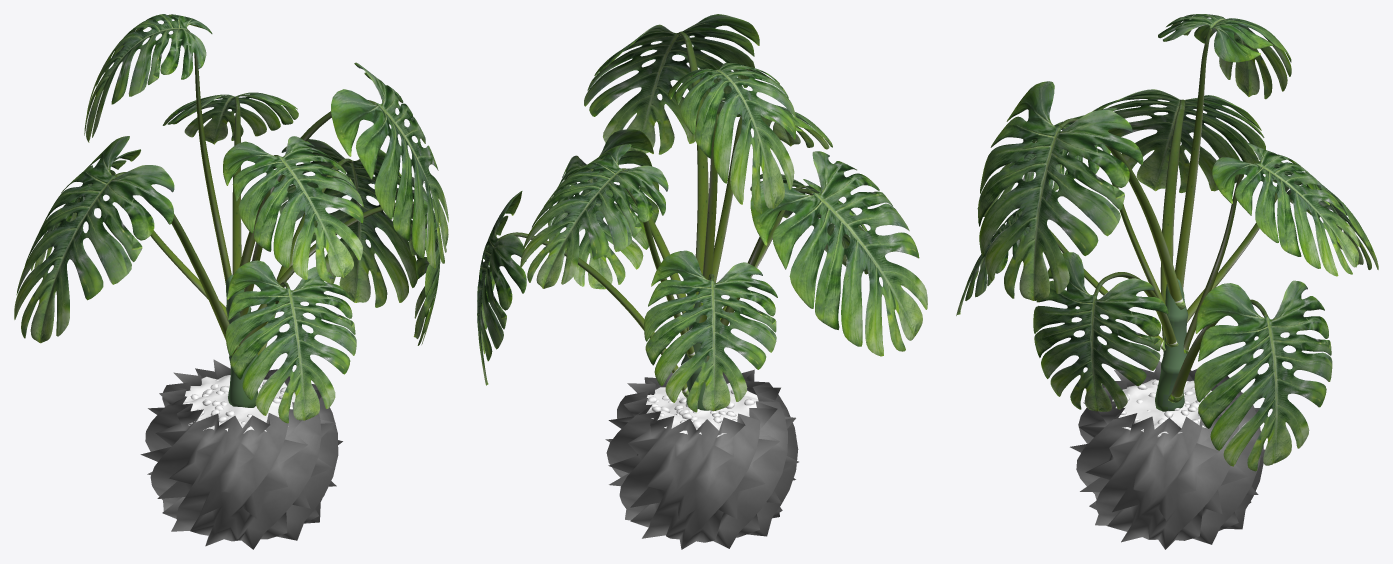
File: plant.glb
3 renders of one model, left to right at view 1: azimuth 30°, elevation 25°; view 2: azimuth 150°, elevation 25°; view 3: azimuth 270°, elevation 25°, orthographic.
Parts seen in each view (by area): view 1: PlantMonstera, Vase, Clay; view 2: PlantMonstera, Vase, Clay; view 3: PlantMonstera, Vase, Clay.
Part boxes in pixels (x1,y1,x2,y2): PlantMonstera: (14,14,448,423); Vase: (140,359,342,549); Clay: (183,375,295,433); PlantMonstera: (477,14,927,412); Vase: (605,369,798,549); Clay: (646,383,758,437); PlantMonstera: (956,14,1378,471); Vase: (1070,361,1264,549); Clay: (1112,379,1211,437).
Bounding box in the file's own units: 1.03 × 1.16 × 0.9311.
3 materials, 2 textured.
